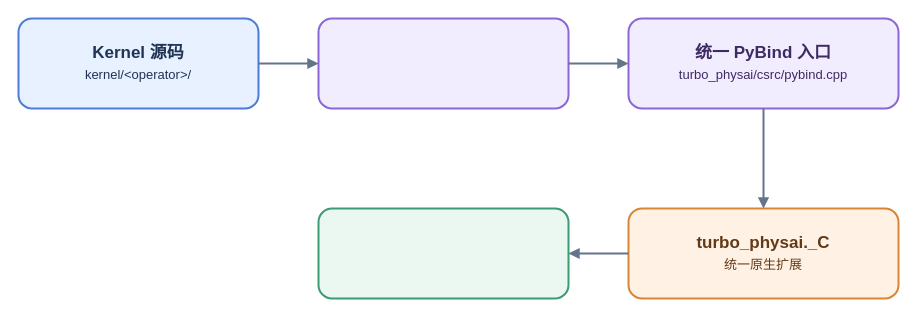
Some shapes in this 916 by 316 pixel diagram are drawn without their labels. The shapes that lost their labels are listed below. From the top down, each one's box as (x1, y1, x2, y2) in pixels, then its label:
(317, 17, 569, 109): 算子注册函数 bind_<operator>(module)
(317, 207, 569, 299): Python 前端 参数检查、Autograd 与接口适配
